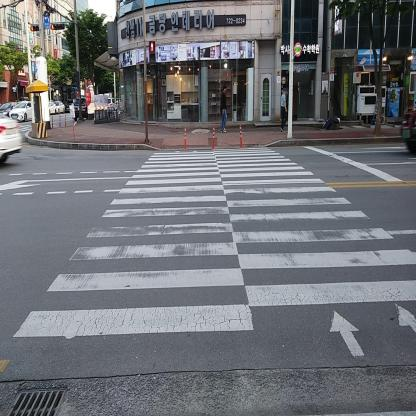Red: (149, 41, 156, 75)
